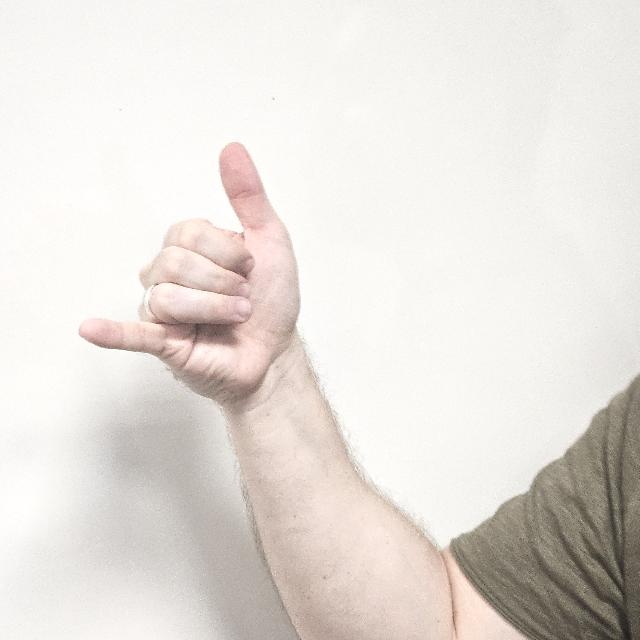Direita: (81, 138, 307, 424)
